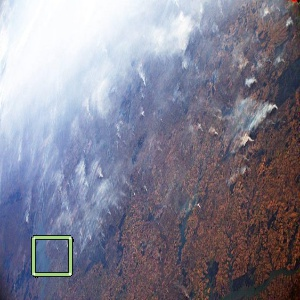square: (29, 233, 74, 278)
